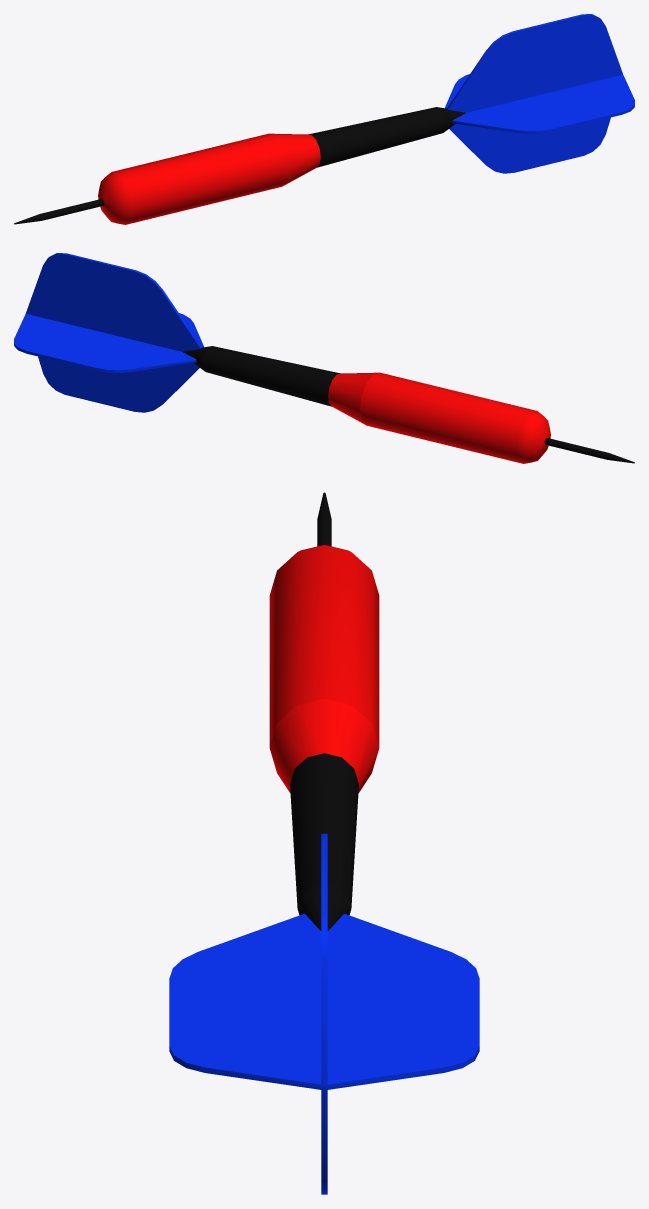
The model's file is darts_lo_UW.FBX.
3 renders of one model, top to bottom at view 1: azimuth 30°, elevation 25°; view 2: azimuth 150°, elevation 25°; view 3: azimuth 270°, elevation 25°, orthographic. The views are drawn at different scales.
Parts seen in each view (by area): view 1: darts_lo_UW; view 2: darts_lo_UW; view 3: darts_lo_UW.
Boxes of the visible parts, left/top/right/bottom form: darts_lo_UW: left=14, top=14, right=634, bottom=224; darts_lo_UW: left=14, top=253, right=634, bottom=463; darts_lo_UW: left=169, top=492, right=479, bottom=1194.
Size of the model in its own units: 115 by 25.4 by 25.4.
